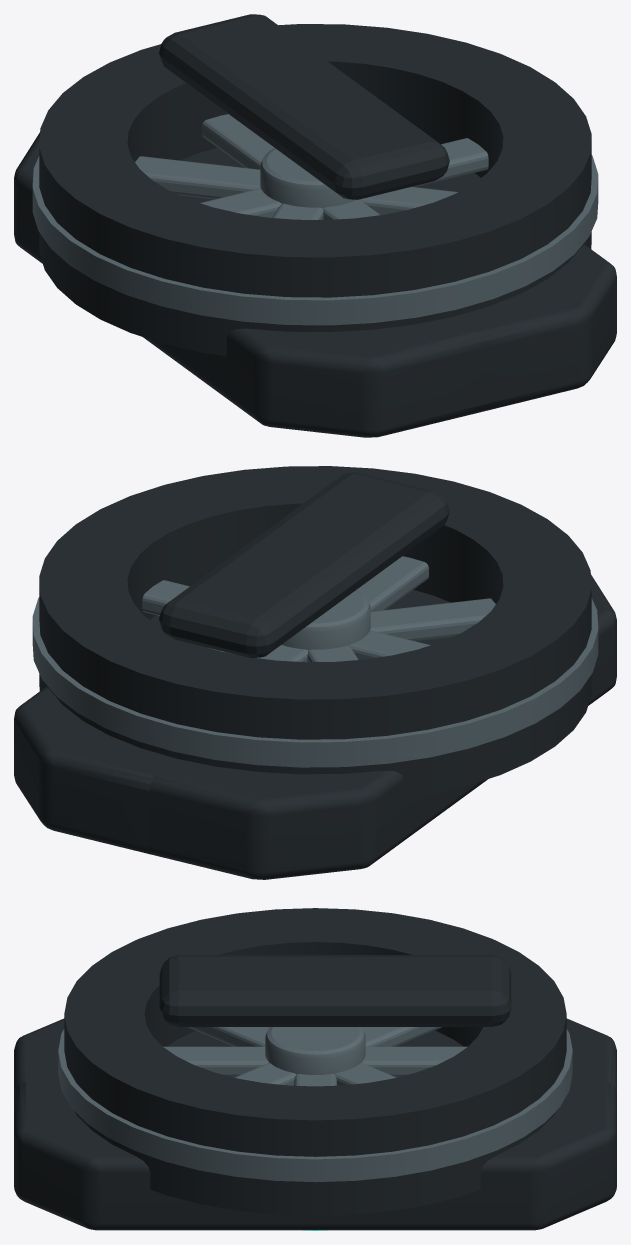
File: charging_relay.glb
The picture shows the model from 3 angles, top to bottom: view 1: azimuth 30°, elevation 25°; view 2: azimuth 150°, elevation 25°; view 3: azimuth 270°, elevation 25°; orthographic projection. The views are drawn at different scales.
Visible parts, largest first — view 1: RelayDuct, RelayKeel, RelayCrown, RelayEdge, RelayBlade.001, RotorHub, RelayBlade, RelayBlade.002, RelayBlade.007, RelayBlade.006; view 2: RelayDuct, RelayKeel, RelayCrown, RelayEdge, RelayBlade.007, RotorHub, RelayBlade, RelayBlade.006, RelayBlade.001, RelayBlade.002; view 3: RelayDuct, RelayKeel, RelayCrown, RelayEdge, RotorHub, RelayBlade.002, RelayBlade.006, RelayBlade.001, RelayBlade.007, RelayBlade.
Part boxes in pixels (x1=…): RelayDuct: x1=39, y1=24, x2=591, y2=356; RelayKeel: x1=14, y1=132, x2=616, y2=437; RelayCrown: x1=159, y1=14, x2=449, y2=199; RelayEdge: x1=32, y1=155, x2=598, y2=325; RelayBlade.001: x1=135, y1=156, x2=260, y2=199; RotorHub: x1=260, y1=148, x2=356, y2=208; RelayBlade: x1=200, y1=138, x2=488, y2=217; RelayBlade.002: x1=202, y1=114, x2=274, y2=169; RelayBlade.007: x1=272, y1=186, x2=457, y2=219; RelayBlade.006: x1=322, y1=199, x2=380, y2=219; RelayDuct: x1=39, y1=466, x2=591, y2=798; RelayKeel: x1=14, y1=575, x2=616, y2=879; RelayCrown: x1=159, y1=472, x2=449, y2=657; RelayEdge: x1=32, y1=597, x2=598, y2=767; RelayBlade.007: x1=370, y1=598, x2=495, y2=641; RotorHub: x1=281, y1=590, x2=370, y2=650; RelayBlade: x1=142, y1=580, x2=430, y2=659; RelayBlade.006: x1=356, y1=556, x2=428, y2=611; RelayBlade.001: x1=209, y1=645, x2=358, y2=662; RelayBlade.002: x1=257, y1=645, x2=308, y2=662; RelayDuct: x1=64, y1=908, x2=566, y2=1215; RelayKeel: x1=14, y1=1018, x2=616, y2=1230; RelayCrown: x1=159, y1=955, x2=511, y2=1026; RelayEdge: x1=58, y1=1029, x2=572, y2=1182; RotorHub: x1=265, y1=1027, x2=365, y2=1074; RelayBlade.002: x1=362, y1=1046, x2=467, y2=1077; RelayBlade.006: x1=163, y1=1046, x2=268, y2=1077; RelayBlade.001: x1=335, y1=1027, x2=442, y2=1085; RelayBlade.007: x1=188, y1=1027, x2=295, y2=1085; RelayBlade: x1=294, y1=1074, x2=336, y2=1086.
Size of the model in its own units: 0.512 by 0.236 by 0.6.
